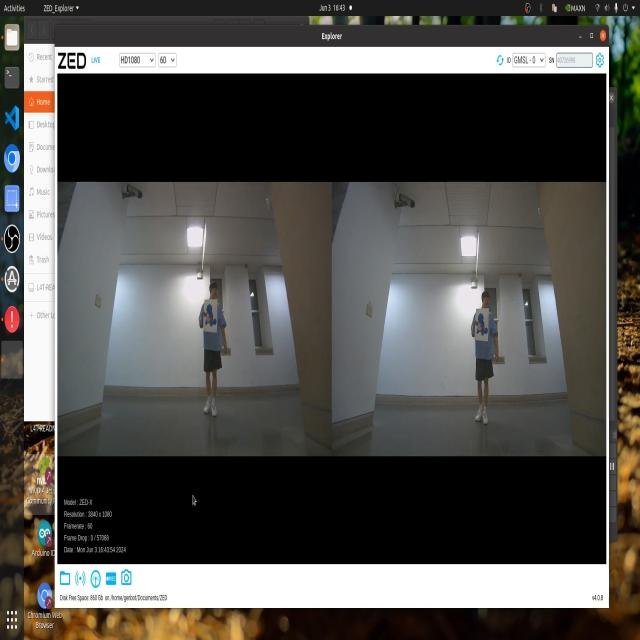blue: (203, 290, 224, 342), (470, 305, 492, 346)
